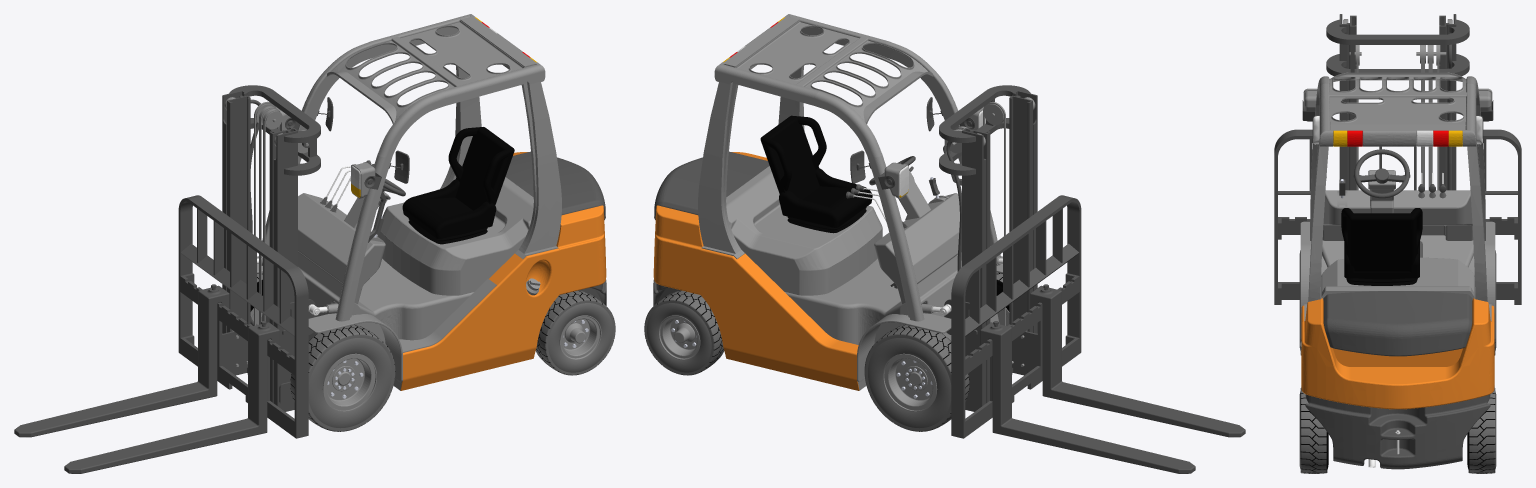
File: Forklift-combined.fbx
3 views of the same model, side by side, from view 1: azimuth 30°, elevation 25°; view 2: azimuth 150°, elevation 25°; view 3: azimuth 270°, elevation 25° (orthographic). The views are drawn at different scales.
Visible parts, largest first — view 1: Combined-model, Combined-model.011, Combined-model.012; view 2: Combined-model, Combined-model.011, Combined-model.012; view 3: Combined-model, Combined-model.011, Combined-model.012, Combined-model.008, Combined-model.010.
Part boxes in pixels (x1,y1,x2,y2): Combined-model: (250, 14, 615, 431); Combined-model.011: (14, 95, 308, 473); Combined-model.012: (222, 85, 320, 411); Combined-model: (644, 14, 1009, 431); Combined-model.011: (951, 95, 1245, 473); Combined-model.012: (939, 85, 1037, 411); Combined-model: (1299, 72, 1496, 473); Combined-model.011: (1274, 15, 1521, 304); Combined-model.012: (1326, 14, 1469, 190); Combined-model.008: (1354, 149, 1409, 198); Combined-model.010: (1313, 116, 1482, 144).
Size of the model in its own units: 6353 by 3410 by 2357.
